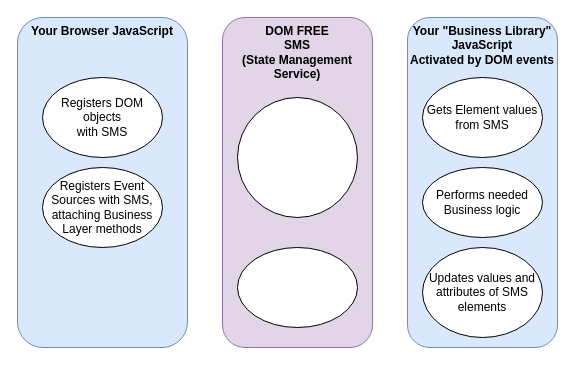
This 575x365 diagram has some shape labels left out. The centre of each missing label's shape, as x and y in pixels:
"Stores a reference to each DOM element, making it available to the BL" goes at pixel 297 157.
"Updates values and attributes of DOM elements" goes at pixel 297 287.
